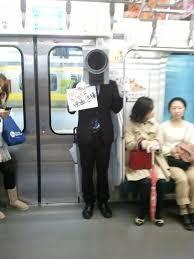no more kid: (80, 43, 112, 89)
